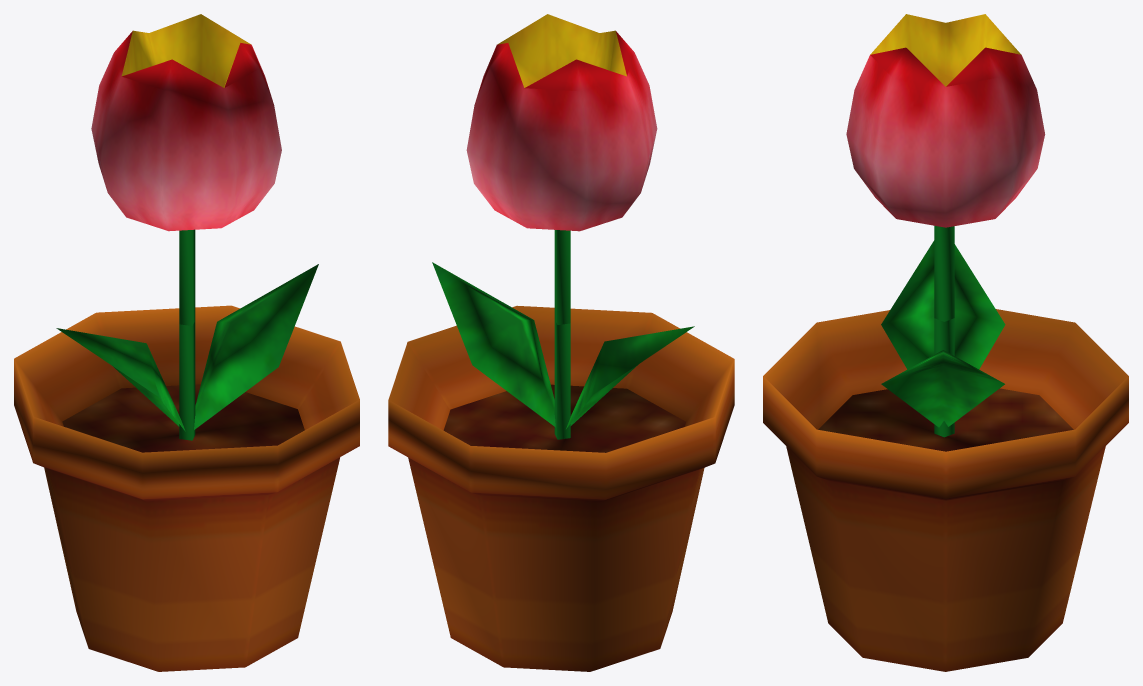
File: COPY.ICO.obj
The picture shows the model from 3 angles, left to right: view 1: azimuth 30°, elevation 25°; view 2: azimuth 150°, elevation 25°; view 3: azimuth 270°, elevation 25°; orthographic projection.
Size of the model in its own units: 2.52 by 4.6 by 2.57.
Materials: 1 (1 with a texture image).
